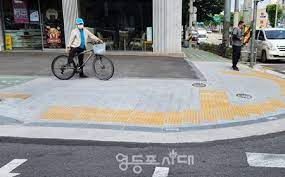guide_blocks: (44, 106, 199, 123), (199, 91, 233, 120), (241, 100, 284, 112), (227, 70, 266, 77), (274, 78, 285, 95)
